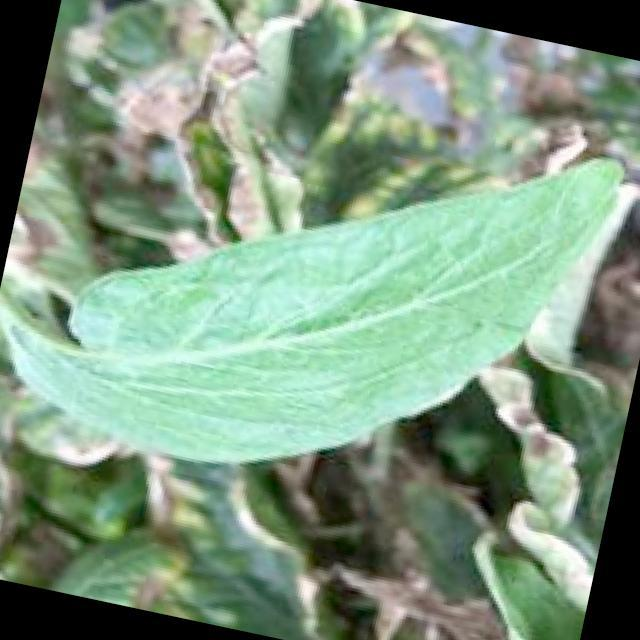Tomato healthy leaf: (0, 154, 625, 463)
